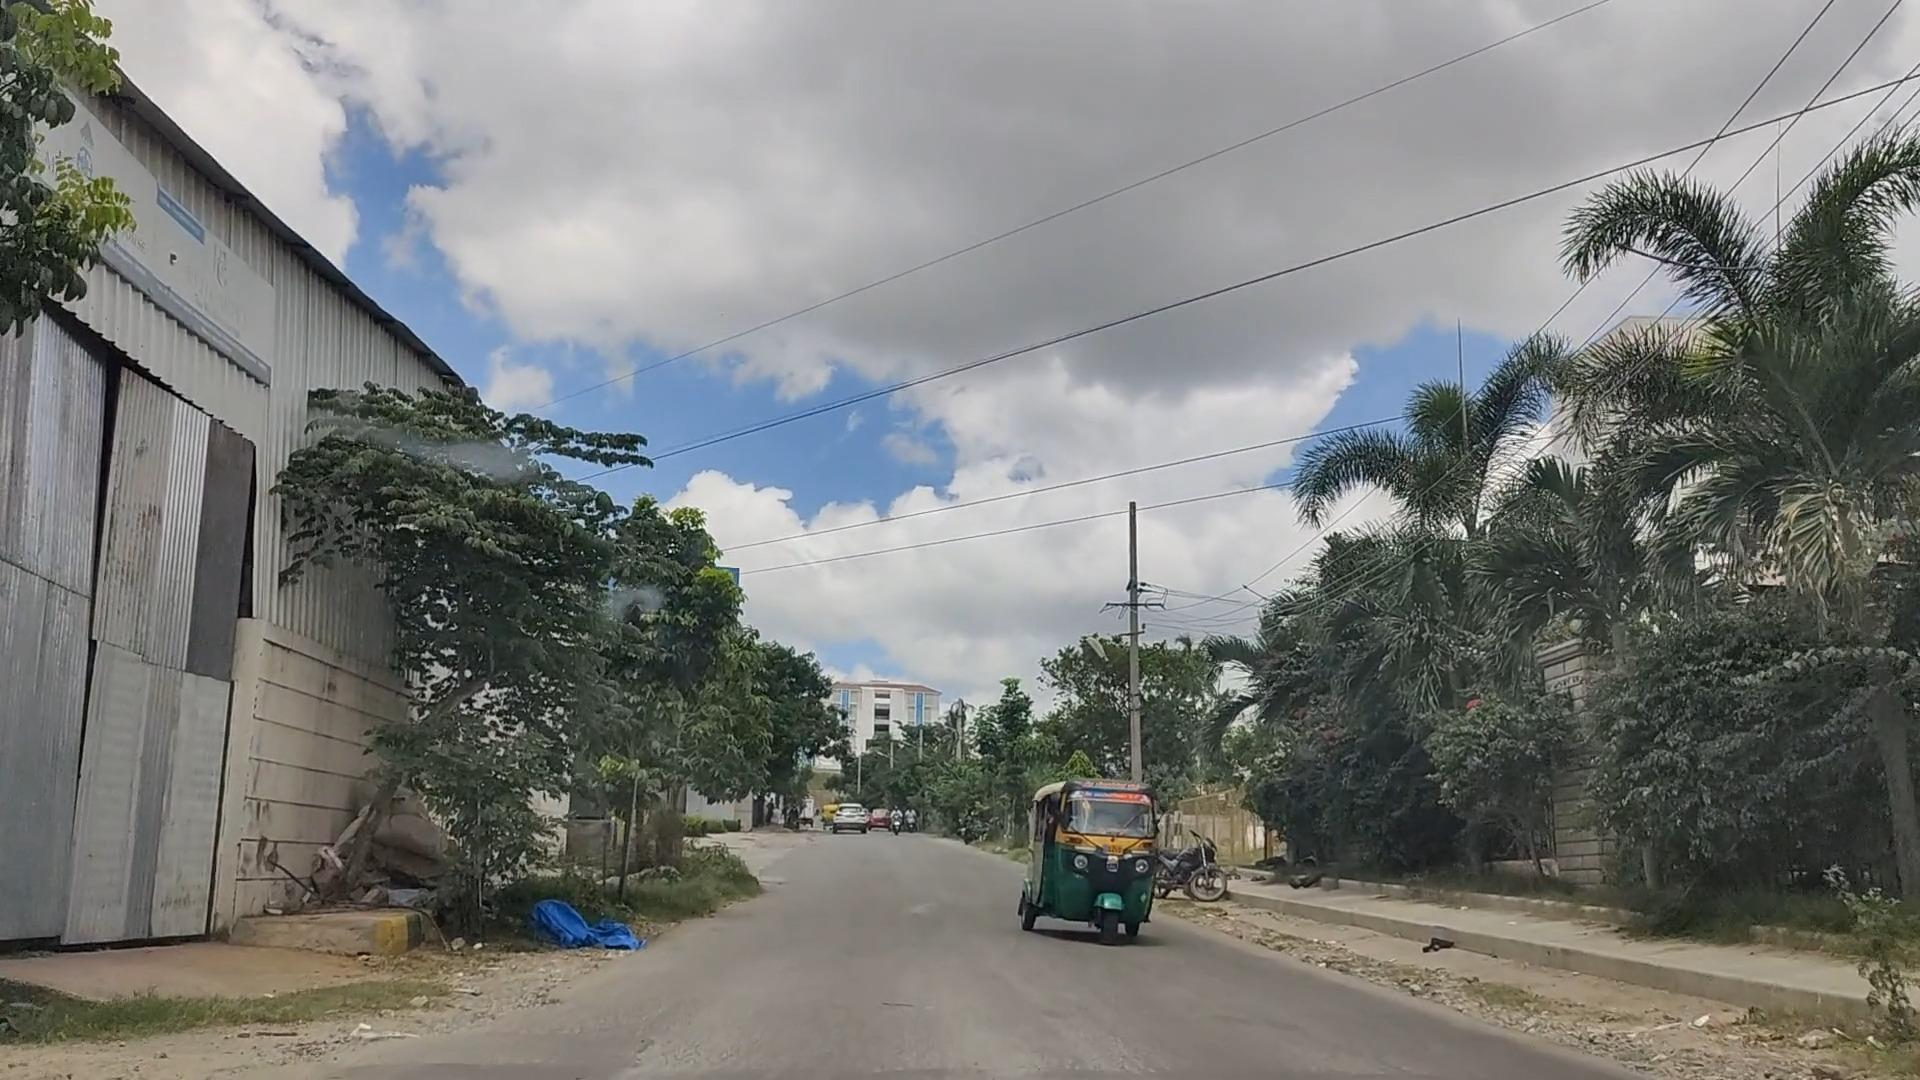LMV: (1025, 770, 1160, 953)
